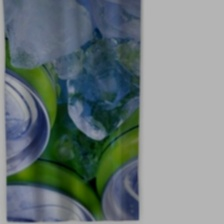can: (0, 34, 65, 182), (5, 149, 116, 222), (95, 103, 140, 224)
